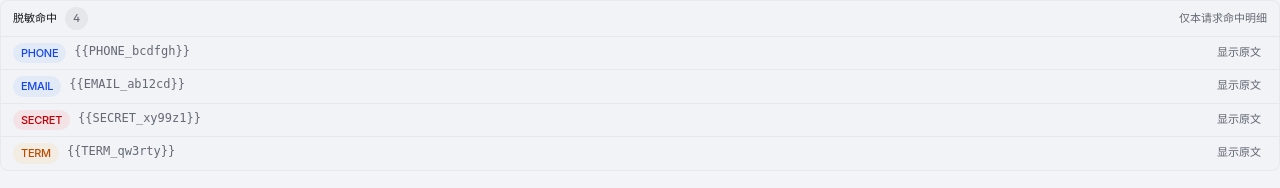
Scenario: <MaskMatches /> › 点击「显示原文」展开命中原文，再点「收起」折叠
Click the button "显示原文" in the row of "{{PHONE_bcdfgh}}" at (1239, 52), box [1211,42,1267,61]
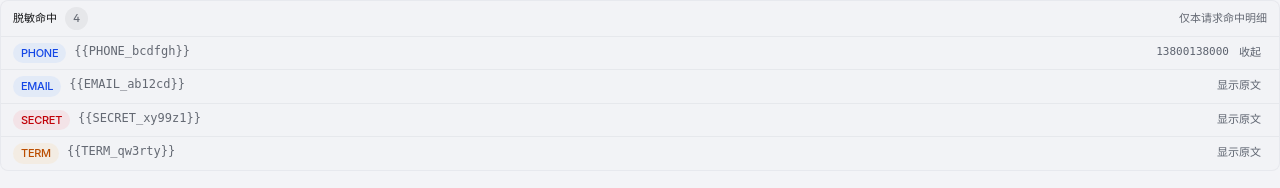
Expected: the text "13800138000" is shown, [1156,42,1229,60]
Click the button "收起" at (1250, 52), box [1233,42,1267,61]
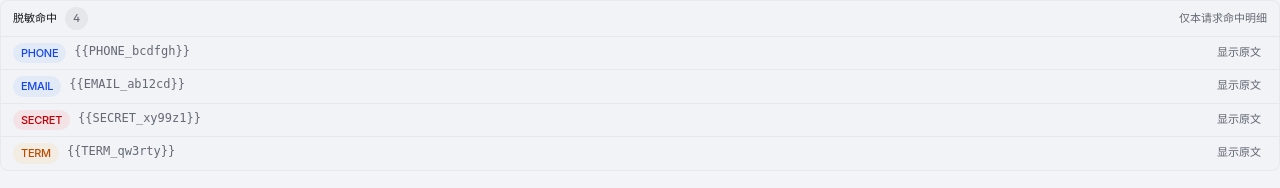
Expected: the text "13800138000" is gone
